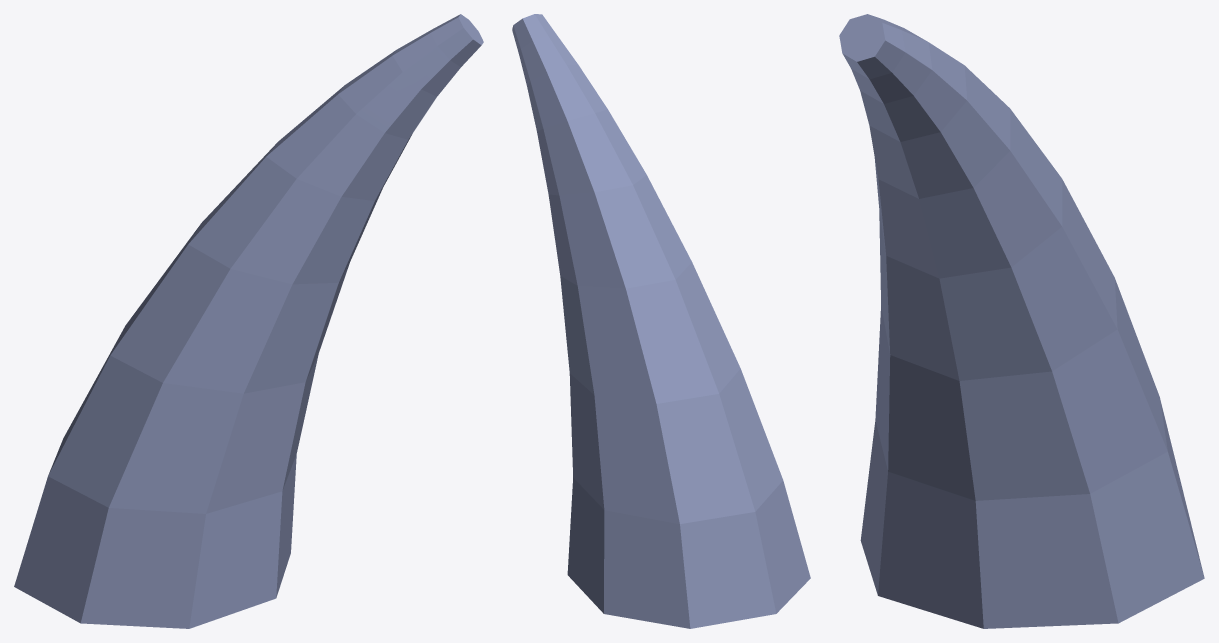
Rendered from Rock_29.fbx.
3 renders of one model, left to right at view 1: azimuth 30°, elevation 25°; view 2: azimuth 150°, elevation 25°; view 3: azimuth 270°, elevation 25°, orthographic. The views are drawn at different scales.
Parts seen in each view (by area): view 1: Rock_29; view 2: Rock_29; view 3: Rock_29.
Part boxes in pixels (x1,y1,x2,y2): Rock_29: [14, 14, 483, 628]; Rock_29: [512, 14, 810, 628]; Rock_29: [839, 14, 1204, 628].
Bounding box in the file's own units: 4.2 × 5.67 × 2.69.
